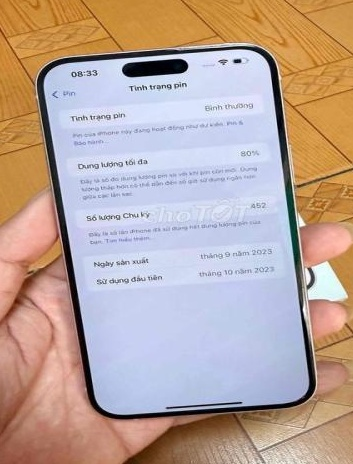scratch: (173, 41, 253, 50), (297, 290, 311, 336)
